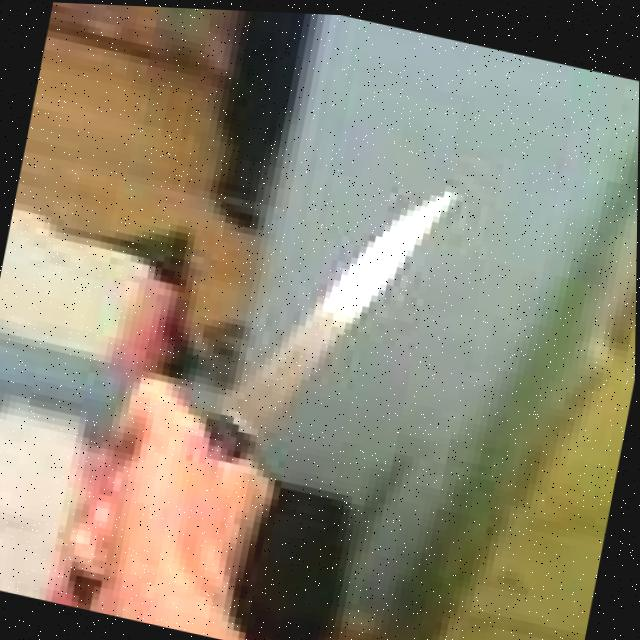knife: (210, 143, 464, 482)
